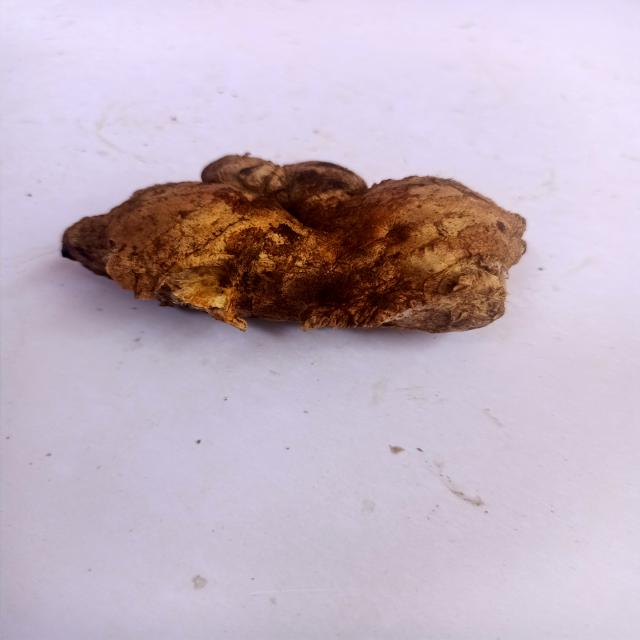Ginger: (32, 136, 542, 354)
